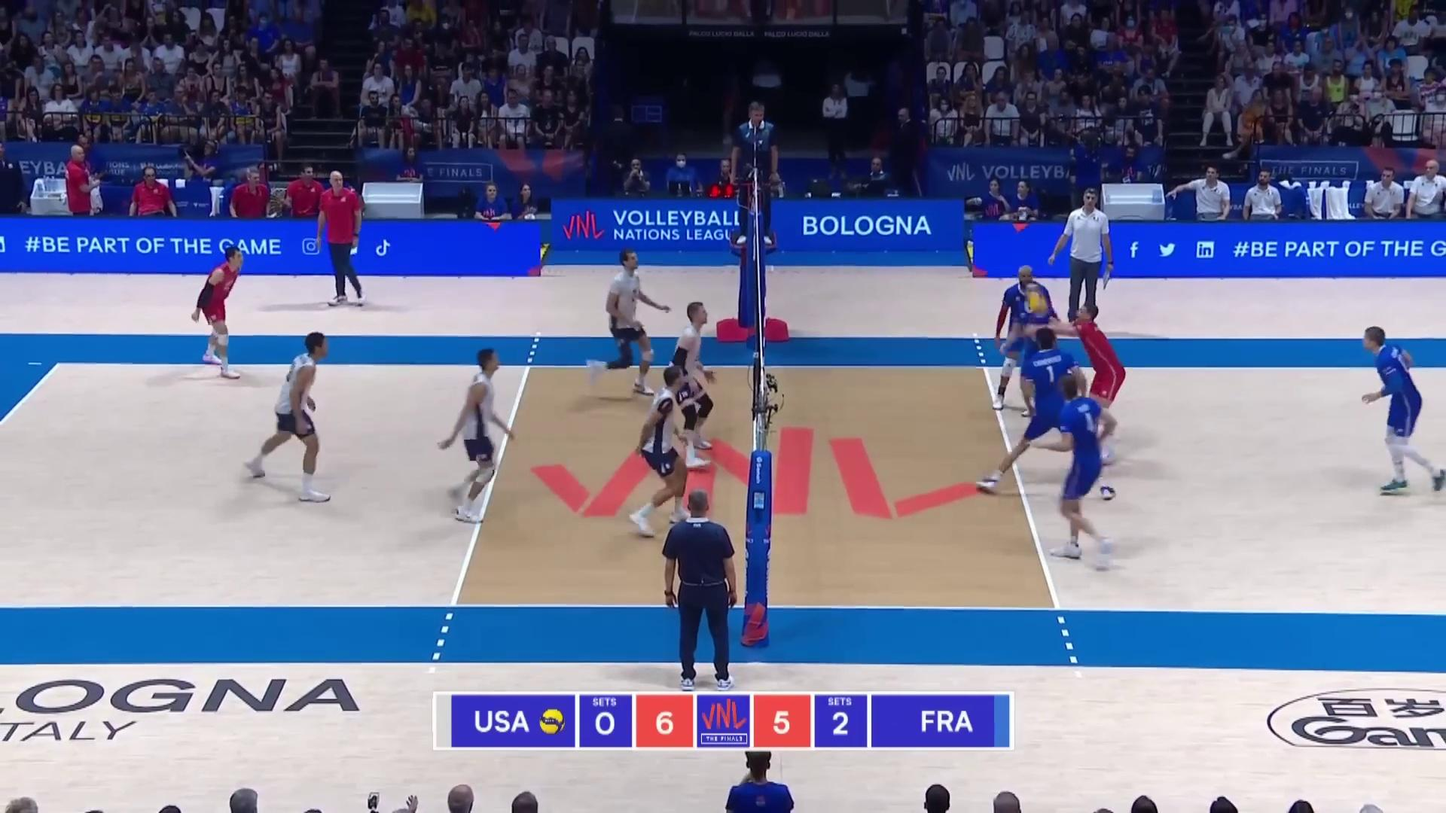player: (978, 328, 1117, 496), (1359, 325, 1446, 497), (1046, 374, 1118, 572), (249, 335, 333, 501), (440, 351, 515, 522), (587, 253, 670, 395), (1055, 302, 1124, 465), (629, 364, 693, 534), (994, 264, 1054, 413), (665, 300, 721, 456), (191, 247, 243, 381), (1012, 285, 1056, 416)
refree: (658, 489, 739, 683), (734, 102, 783, 243)
